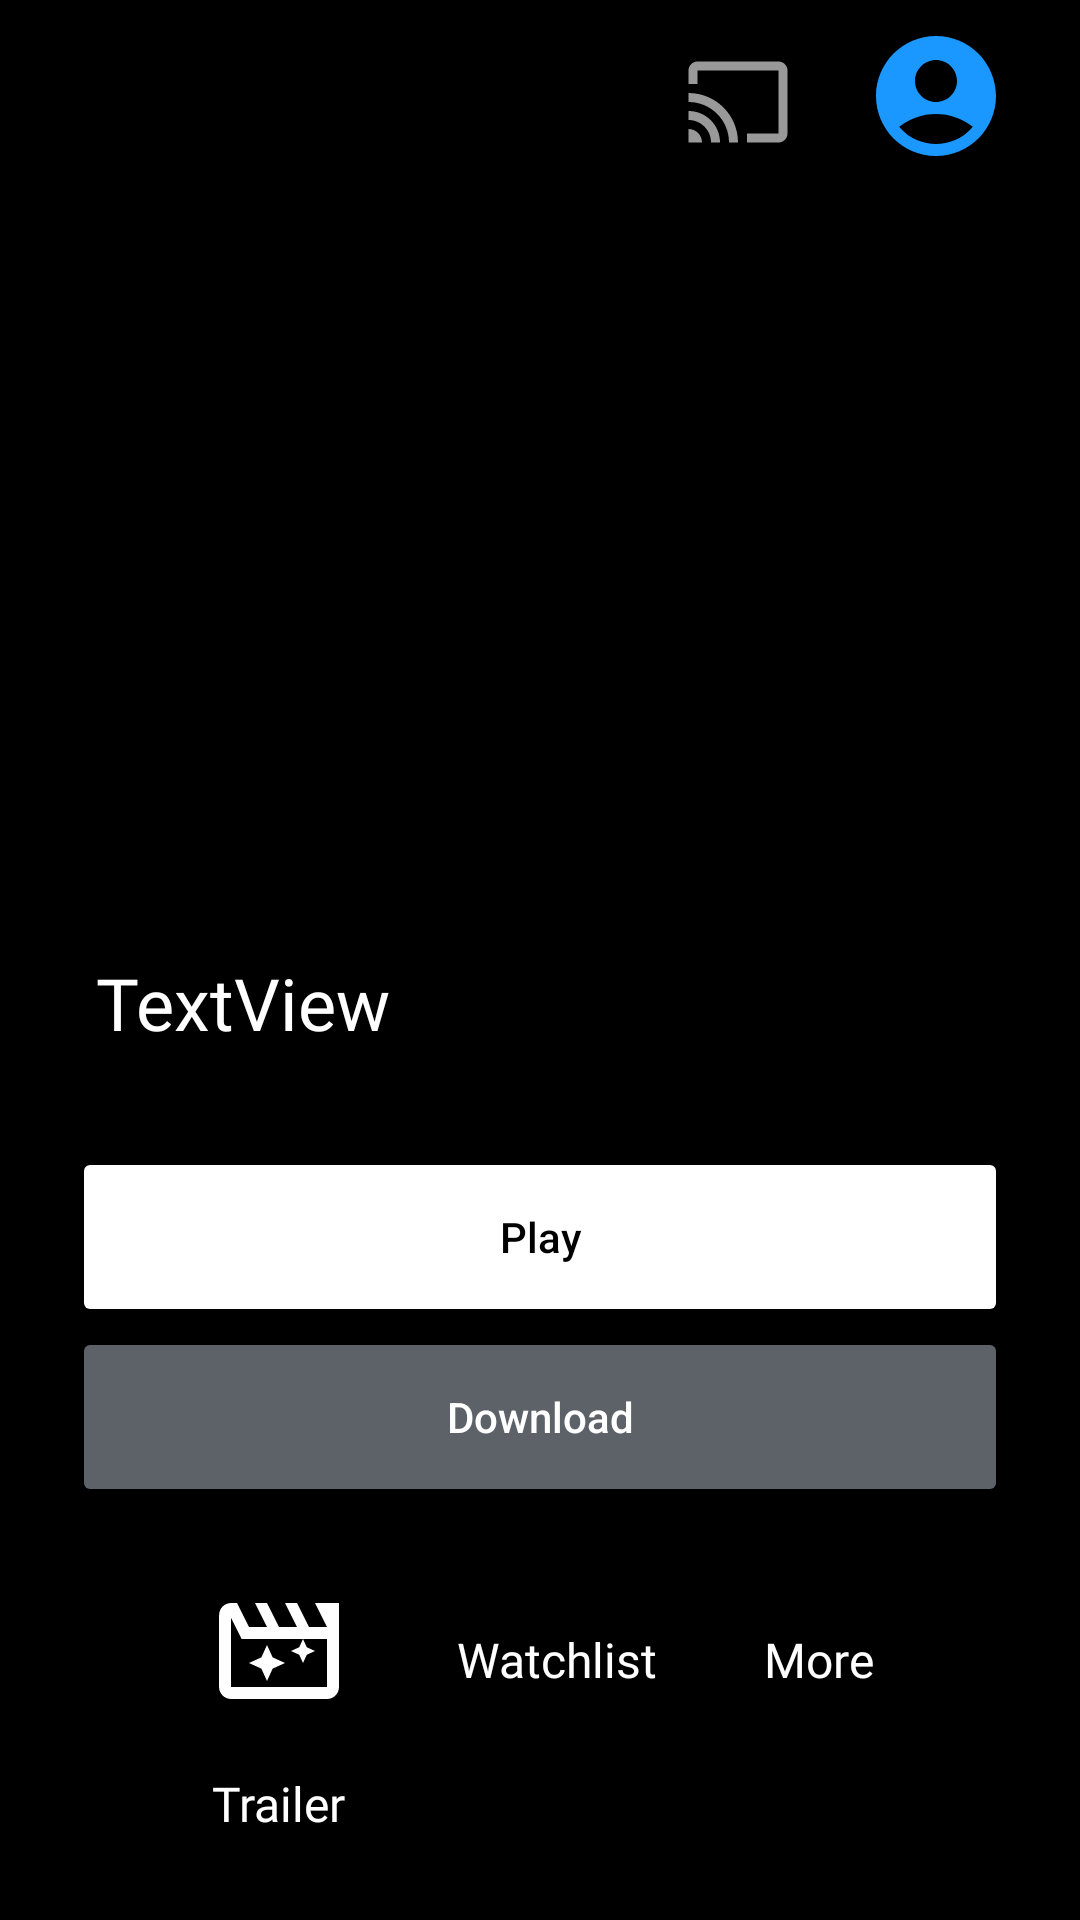

Icons on this 1080w x 1920h Android screen, each with its box as [left=x1, top=y1, right=x2, bottom=y2]:
account circle: [left=876, top=36, right=996, bottom=156]
cast: [left=688, top=61, right=788, bottom=143]
movie filter: [left=219, top=1603, right=339, bottom=1699]
